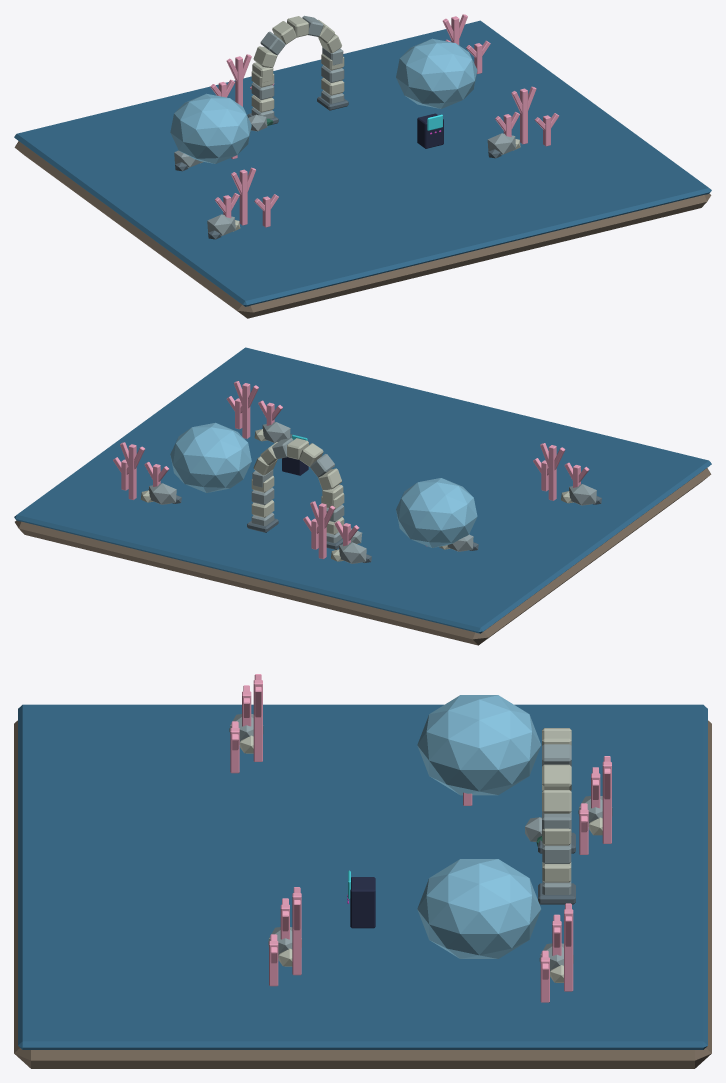
File: world-underwater.glb
3 renders of one model, top to bottom at view 1: azimuth 30°, elevation 25°; view 2: azimuth 150°, elevation 25°; view 3: azimuth 270°, elevation 25°, orthographic. The views are drawn at different scales.
Parts seen in each view (by area): view 1: terrain-top, terrain-stratum, undersea-pod.001, undersea-pod, terminal-base.001; view 2: terrain-top, terrain-stratum, undersea-pod.001, undersea-pod, rock.003, rock.012, rock.015; view 3: terrain-top, terrain-stratum, undersea-pod, undersea-pod.001, terminal-base.001, arch-stone.011, arch-stone.010, coral-stem.010, coral-stem.016, coral-stem.004, arch-stone.012, coral-stem.013.
Part boxes in pixels (x1,y1,x2,y2): terrain-top: (14,20,711,306); terrain-stratum: (14,141,711,318); undersea-pod.001: (396,38,477,108); undersea-pod: (170,93,251,163); terminal-base.001: (417,113,443,148); terrain-top: (14,347,711,633); terrain-stratum: (15,468,711,645); undersea-pod.001: (170,422,251,492); undersea-pod: (396,478,477,547); rock.003: (569,484,596,505); rock.012: (148,483,176,504); rock.015: (339,542,366,563); terrain-top: (18,704,707,1049); terrain-stratum: (14,720,711,1068); undersea-pod: (417,695,541,795); undersea-pod.001: (417,859,541,958); terminal-base.001: (350,877,375,928); arch-stone.011: (542,764,571,790); arch-stone.010: (542,790,571,813); coral-stem.010: (292,893,301,975); coral-stem.016: (602,761,611,843); coral-stem.004: (253,680,262,761); arch-stone.012: (542,744,571,766); coral-stem.013: (564,909,573,991).
Size of the model in its own units: 21 by 4.82 by 18.
